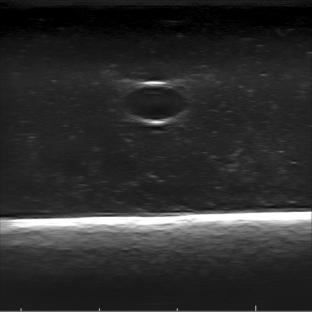vessel: (118, 80, 190, 125)
